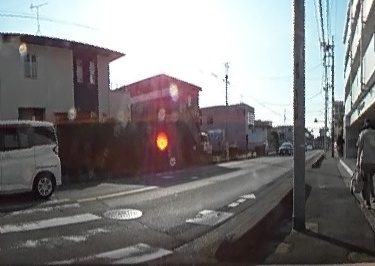person: (356, 118, 375, 205)
